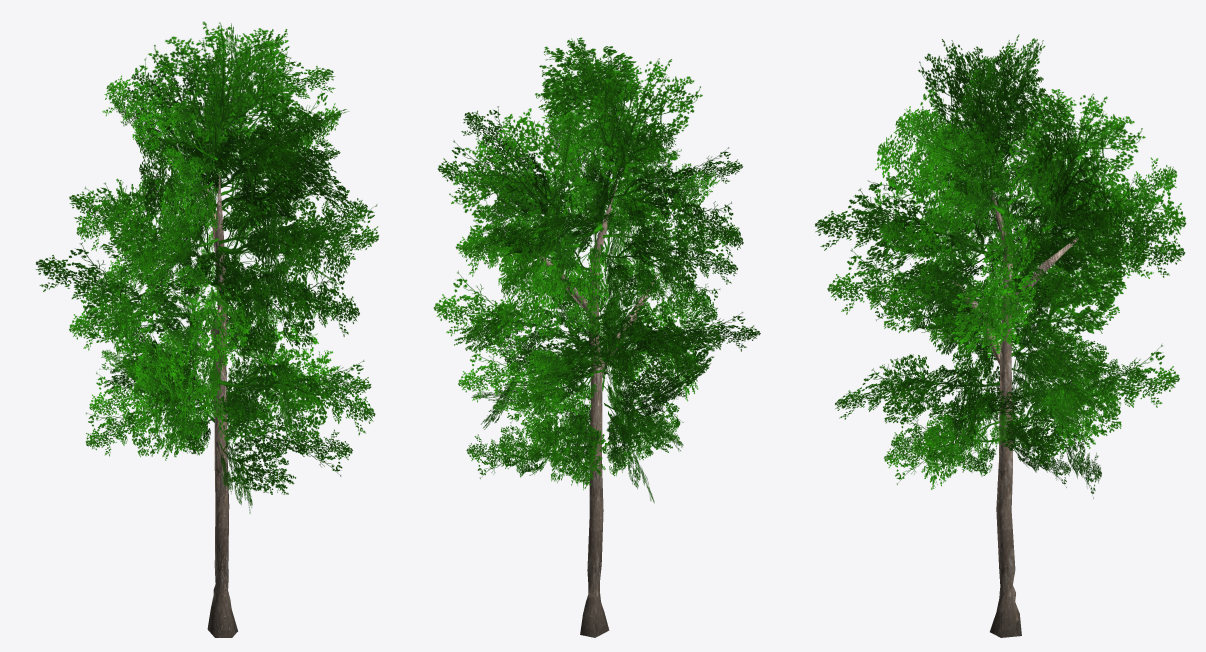
File: Tree01.gltf
3 views of the same model, side by side, from view 1: azimuth 30°, elevation 25°; view 2: azimuth 150°, elevation 25°; view 3: azimuth 270°, elevation 25° (orthographic). The views are drawn at different scales.
Visible parts, largest first — view 1: Tree_Branches_02, Tree_Trunk_02; view 2: Tree_Branches_02, Tree_Trunk_02; view 3: Tree_Branches_02, Tree_Trunk_02.
Part boxes in pixels (x1,y1,x2,y2): Tree_Branches_02: (35, 21, 379, 513); Tree_Trunk_02: (204, 173, 237, 637); Tree_Branches_02: (433, 37, 760, 503); Tree_Trunk_02: (533, 180, 658, 637); Tree_Branches_02: (815, 34, 1186, 498); Tree_Trunk_02: (943, 173, 1081, 637).
Size of what is drawn, in the model's own units: 6.62 by 12.71 by 7.66.
Materials: 2 (2 with a texture image).
